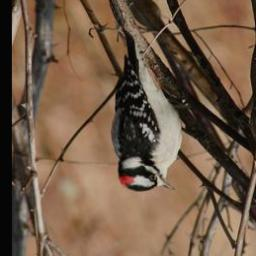Woodpecker: (112, 28, 188, 192)
